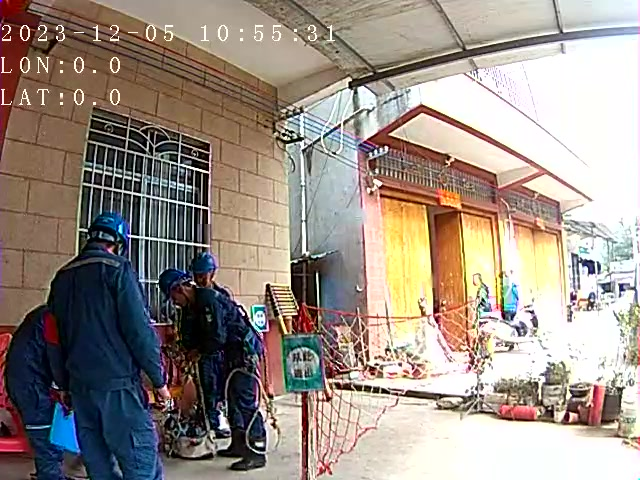badge: (41, 312, 60, 346)
downsuit: (70, 392, 158, 480), (10, 389, 63, 480), (212, 359, 266, 438)
halt: (85, 211, 131, 252), (159, 268, 194, 310), (191, 251, 220, 284)
hand: (156, 385, 176, 410)
inear: (173, 282, 190, 304)
intosign: (282, 328, 331, 398)
person: (41, 212, 168, 480), (161, 251, 267, 470), (4, 297, 64, 480)
shoe: (217, 430, 269, 471)
upsuit: (41, 252, 160, 390), (180, 287, 258, 356), (4, 304, 63, 388)
worksign: (251, 303, 269, 333)
